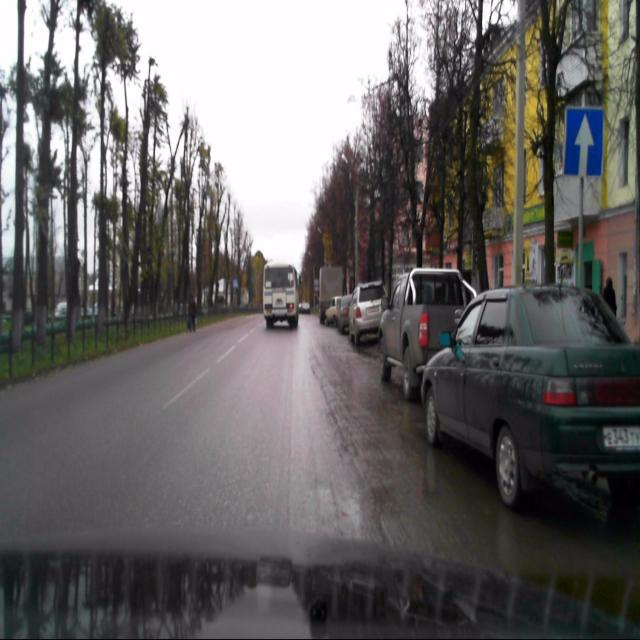road sign: (566, 108, 604, 176), (579, 176, 584, 289)
